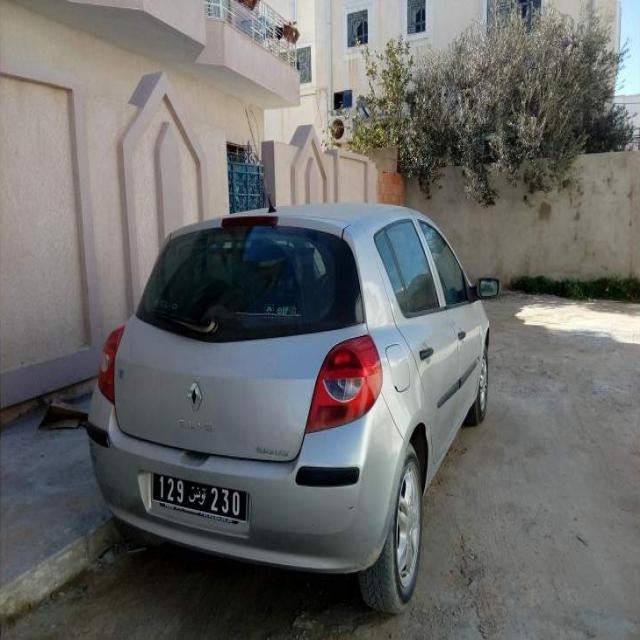licence plate: (154, 475, 246, 521)
